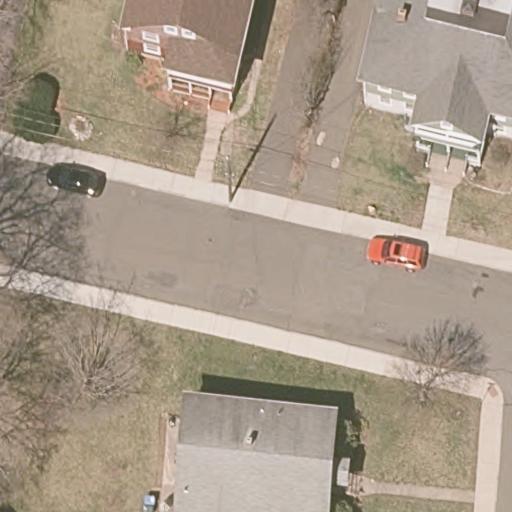DT: (220, 154, 237, 202)
